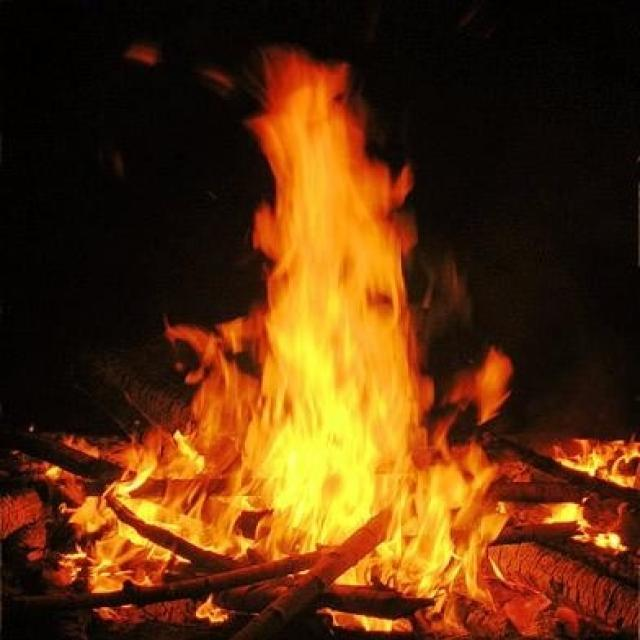Fire: (48, 47, 514, 632), (545, 502, 632, 554), (550, 438, 640, 487)
